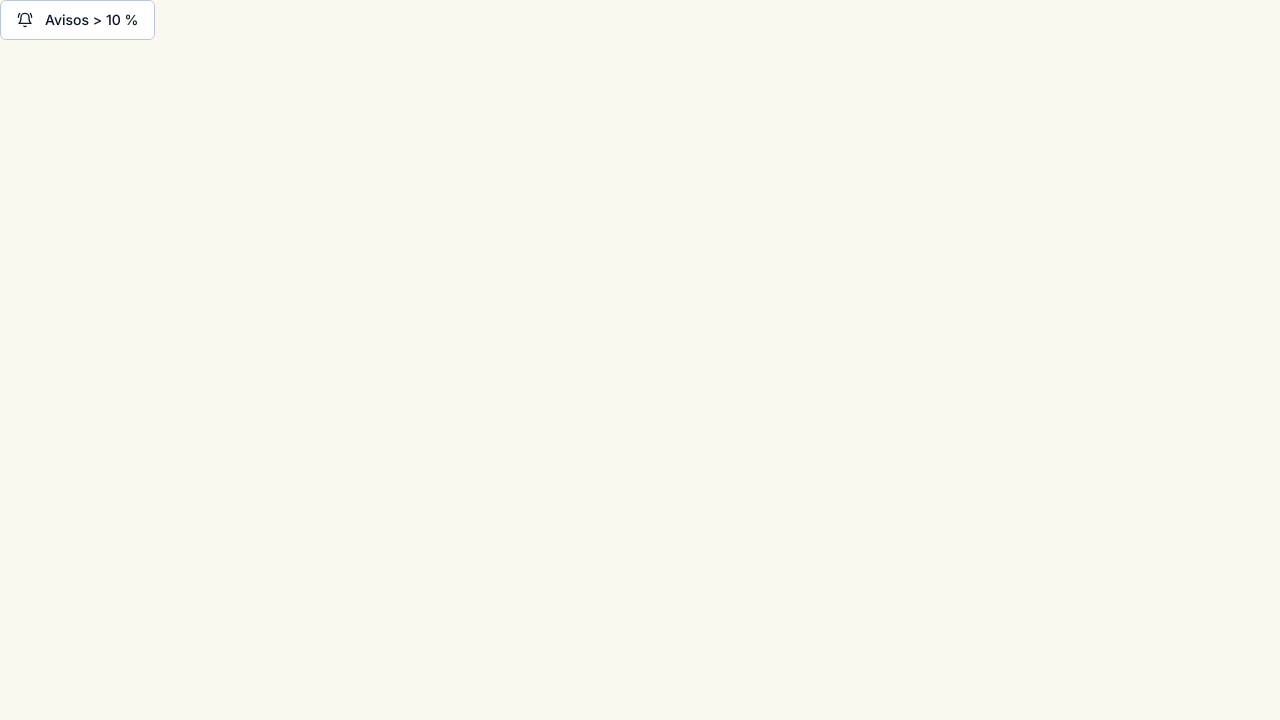
it: AvisosPrecio › un umbral no válido no se puede guardar
The width and height of the screenshot is (1280, 720).
Click the button with aria-label "Avisos de subida de precio".
click(78, 20)  # box [0,0,155,40]
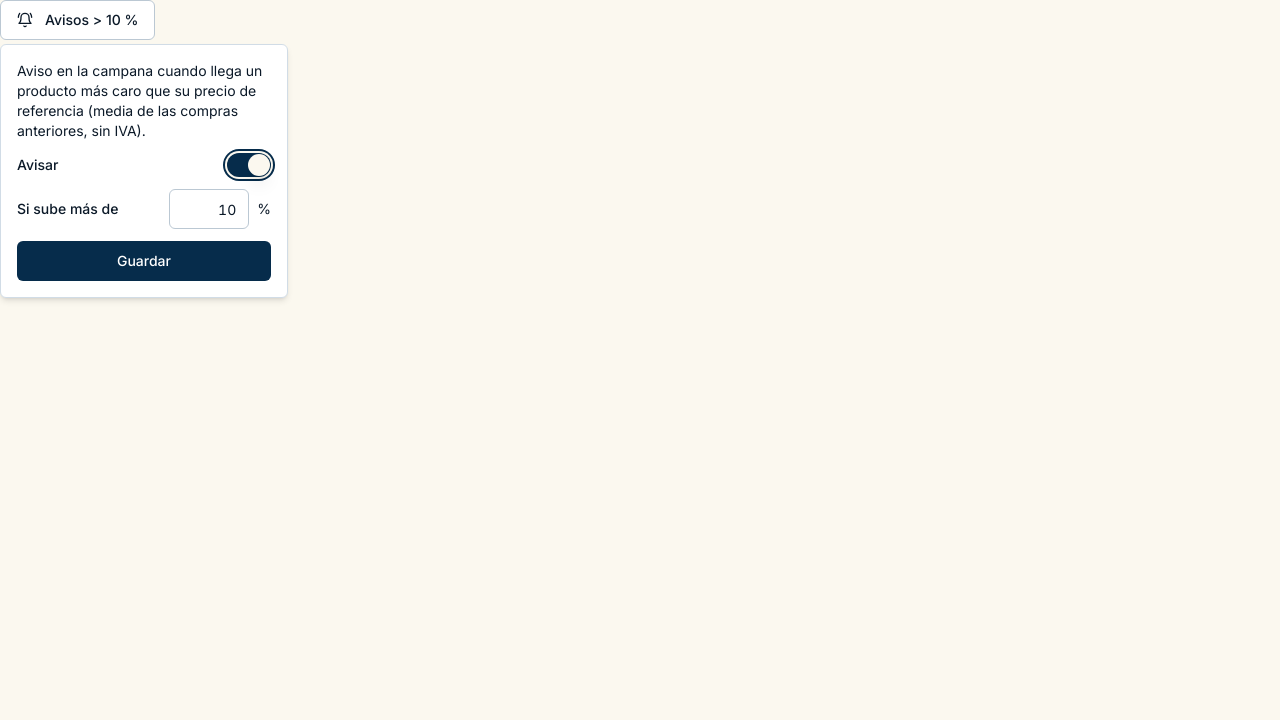
Replace the text in the field labelled "Si sube más de" with "0" at (209, 209), box [169,189,249,229]
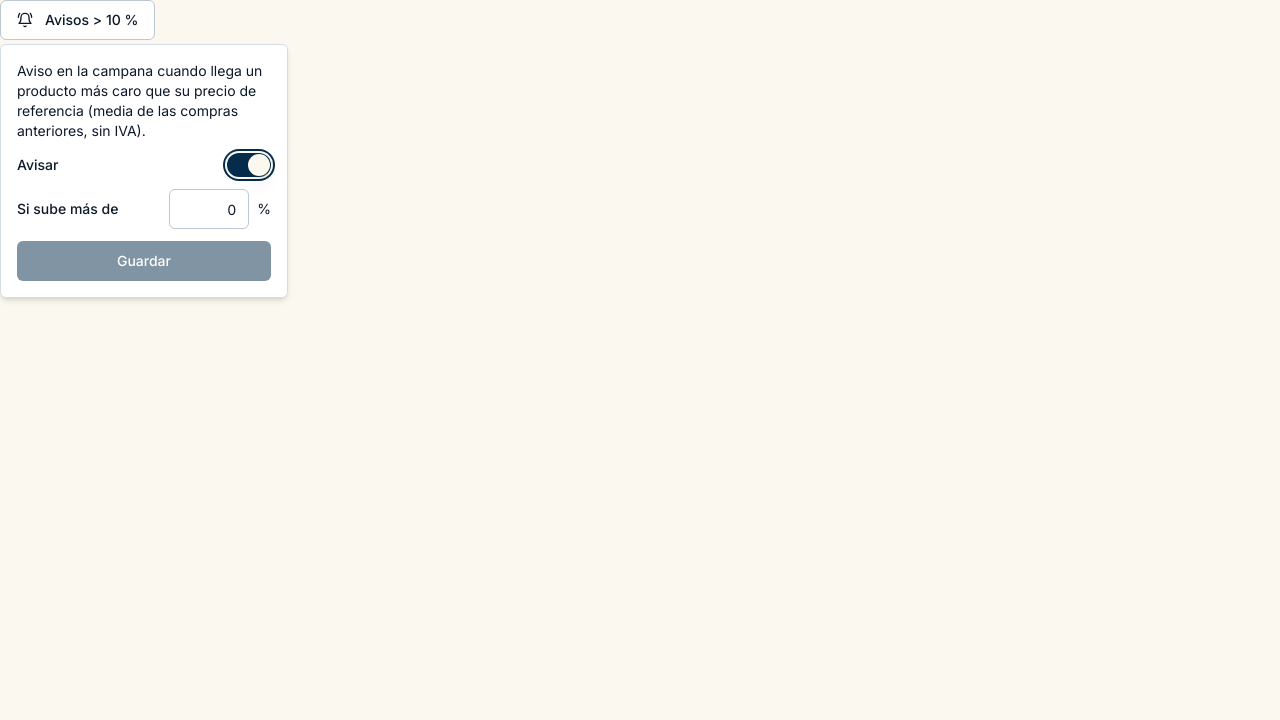
Check: the button "Guardar" is disabled, box [17,241,271,281]
